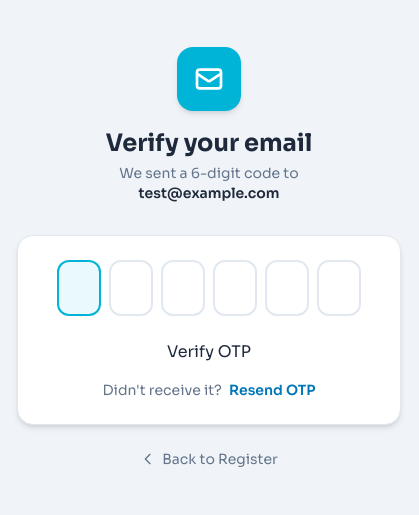
Scenario: OtpVerifyView › resendOtp failure shows inline error
The image size is (419, 515).
Click the button "Resend OTP".
click(272, 390)  # box 229,380 -> 315,400
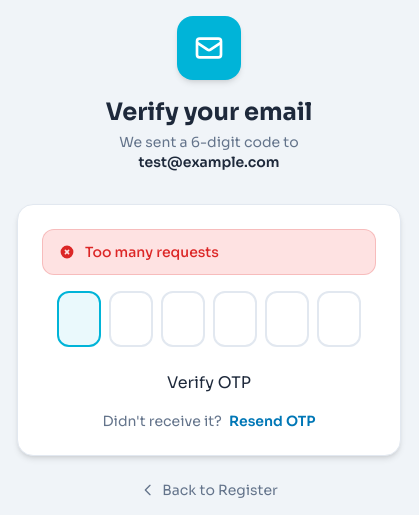
Expected: the text "Too many requests" is shown, 85,242 -> 219,262
